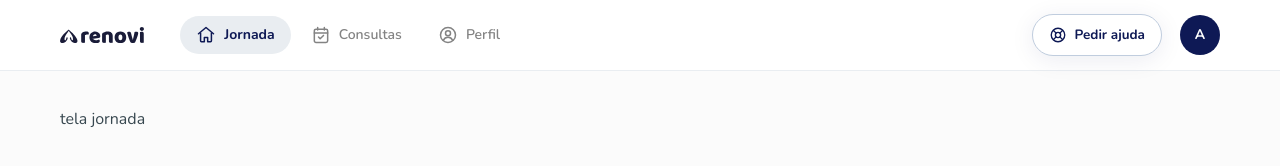
Test: AppLayout › pede ajuda em um clique e exibe o canal retornado
Step 1. Click the button "Pedir ajuda" → (1097, 35), box [1032,14,1162,56]
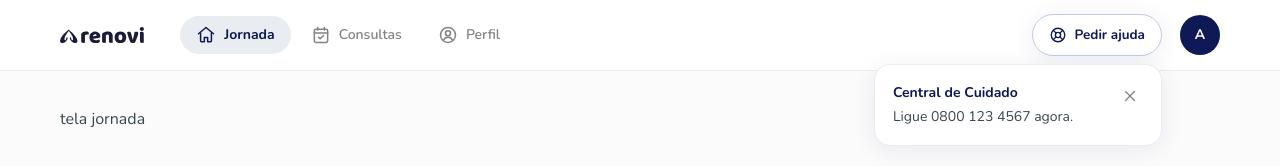
Check: the text "Ligue 0800 123 4567 agora." is shown, box [893,107,1073,127]
Check: the text "Central de Cuidado" is shown, box [893,83,1018,102]
